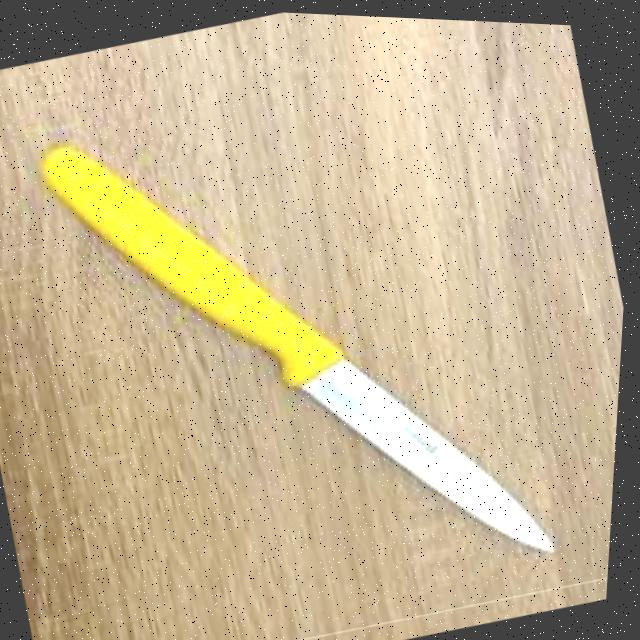knife: (8, 39, 591, 640)
